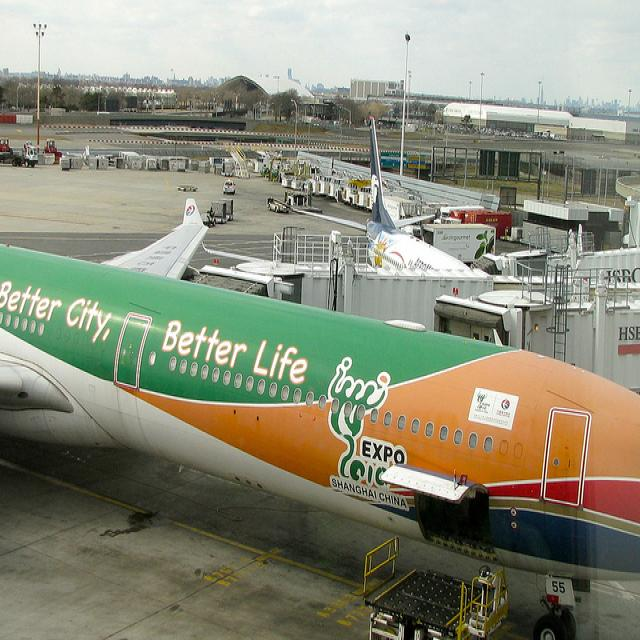Vehicle: (420, 224, 496, 263), (441, 210, 513, 238), (433, 204, 486, 224), (0, 146, 38, 168), (208, 202, 228, 224), (222, 178, 237, 194), (42, 138, 58, 153), (178, 185, 197, 191)
